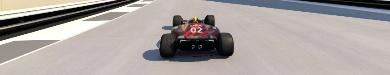Car: (158, 14, 234, 57)
Solid White and black: (0, 0, 155, 73)
curve: (0, 0, 389, 74)
